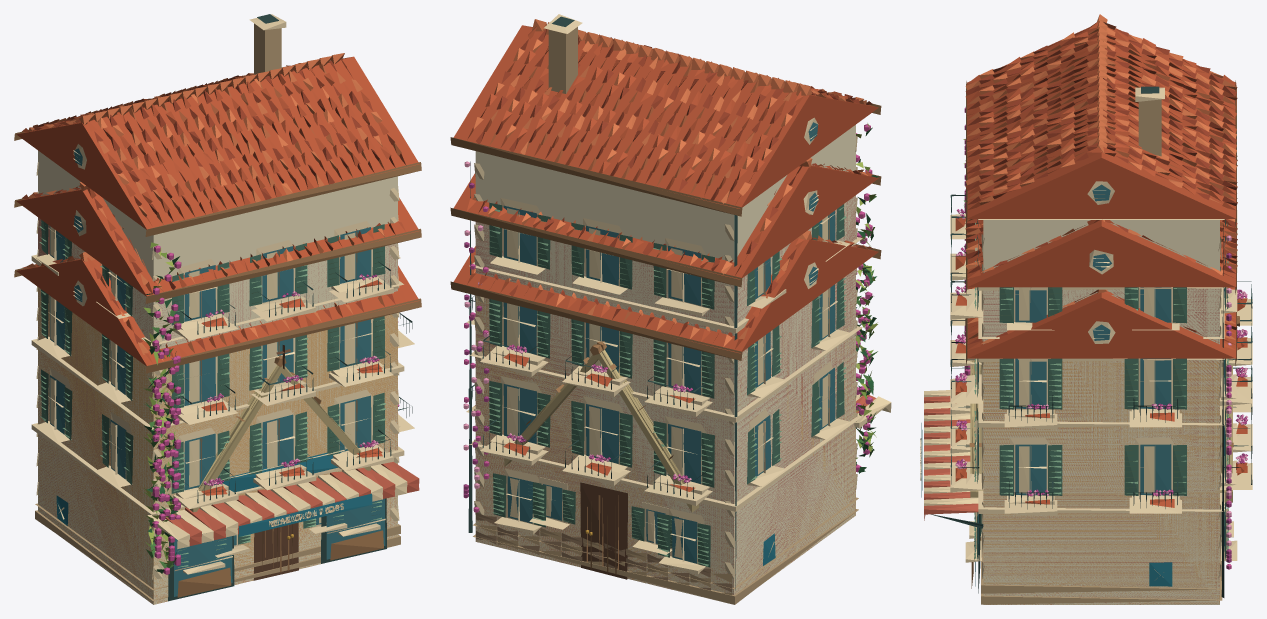
The model's file is village-lod.glb.
3 views of the same model, side by side, from view 1: azimuth 30°, elevation 25°; view 2: azimuth 150°, elevation 25°; view 3: azimuth 270°, elevation 25° (orthographic). The views are drawn at different scales.
Visible parts, largest first — view 1: apartment_lod, cafe_lod, townhouse_lod, cottage_lod; view 2: apartment_lod, townhouse_lod, cafe_lod, cottage_lod; view 3: apartment_lod, cafe_lod, townhouse_lod, cottage_lod.
Boxes of the visible parts, bbox=[...] form: apartment_lod: bbox=[14, 14, 421, 604]; cafe_lod: bbox=[14, 252, 421, 603]; townhouse_lod: bbox=[14, 182, 421, 604]; cottage_lod: bbox=[190, 345, 370, 572]; apartment_lod: bbox=[450, 14, 891, 604]; townhouse_lod: bbox=[450, 158, 890, 597]; cafe_lod: bbox=[450, 230, 881, 600]; cottage_lod: bbox=[504, 341, 698, 574]; apartment_lod: bbox=[920, 14, 1252, 604]; cafe_lod: bbox=[920, 252, 1252, 604]; townhouse_lod: bbox=[920, 154, 1247, 604]; cottage_lod: bbox=[965, 316, 1239, 540].
Size of the model in its own units: 10.48 by 16.49 by 10.12.
